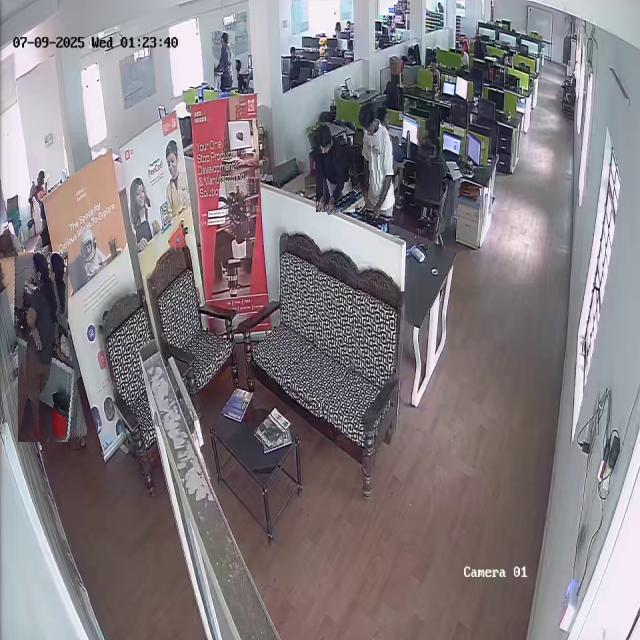person: (9, 250, 78, 444), (358, 101, 398, 222), (311, 121, 360, 213), (417, 118, 454, 217), (212, 31, 236, 92), (33, 169, 51, 202)
